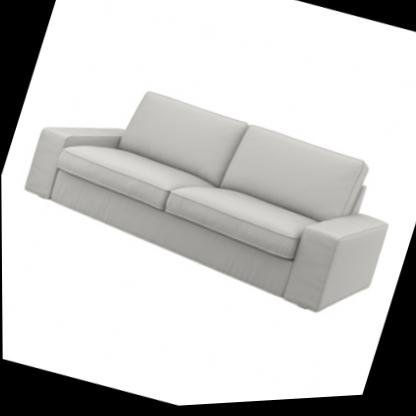Sofa: (5, 49, 414, 348)
